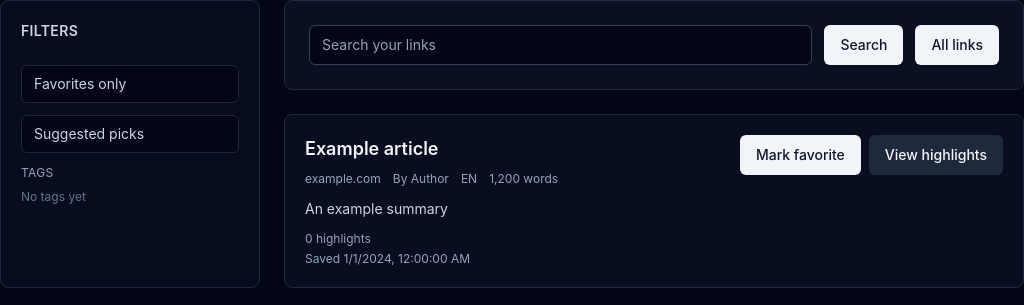
Test: ListPage › favorite toggle completes without network errors
Click the button "Mark favorite": (800,155) left=740, top=135, right=861, bottom=175
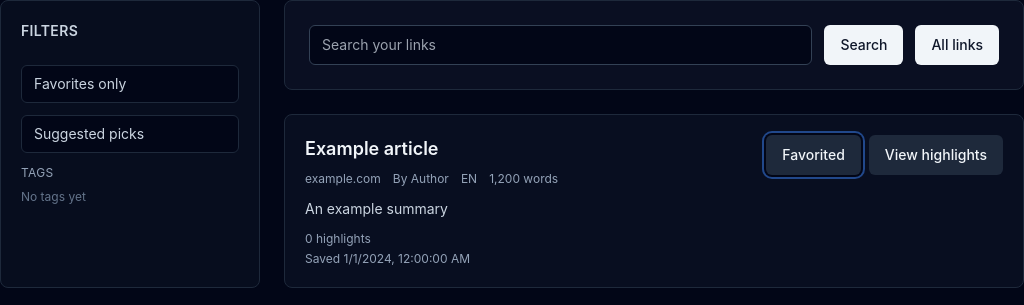
expect the button named "Mark favorite" reads "Favorited": met, box left=766, top=135, right=861, bottom=175
